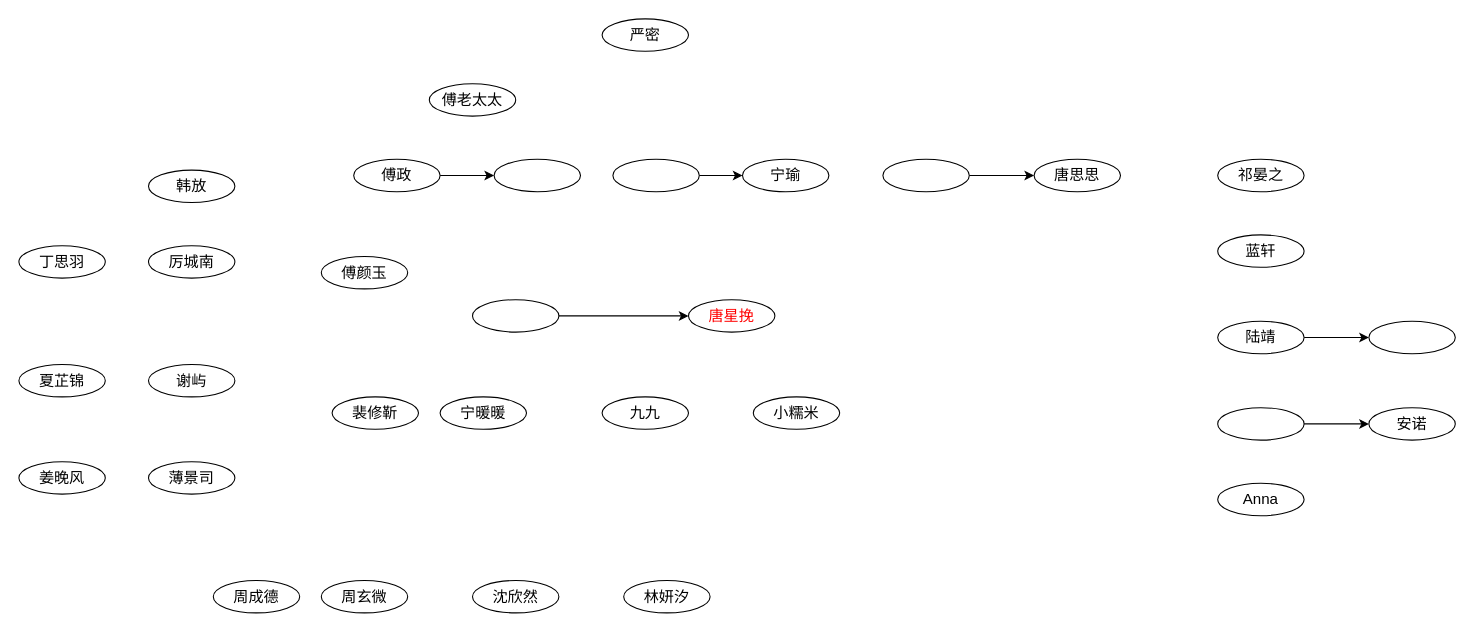
This 1474x632 diagram has some shape labels left out. Here are the shapes that lost their labels. From the top down, the centre of each, then its label:
At point 536,175: "舒印月".
At point 655,175: "查尔斯".
At point 925,175: "宁灏远".
At point 515,315: "傅寒深".
At point 1411,337: "乔若萱".
At point 1260,423: "周屹".
